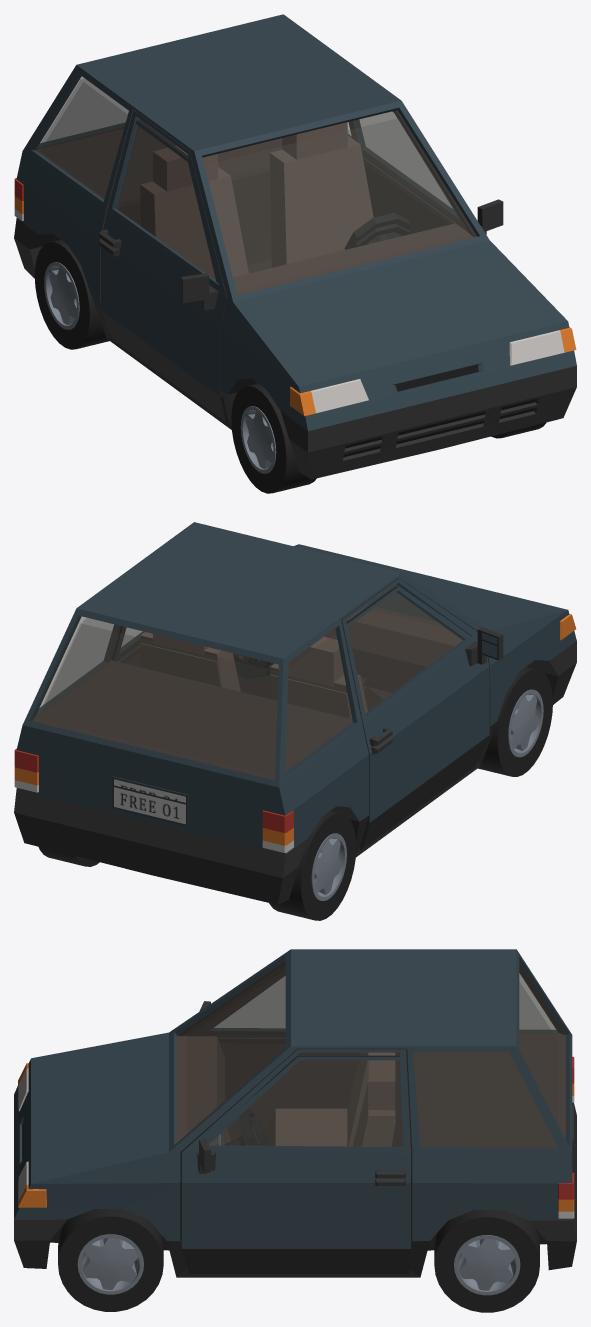
The model's file is car.glb.
3 views of the same model, one above another, from view 1: azimuth 30°, elevation 25°; view 2: azimuth 150°, elevation 25°; view 3: azimuth 270°, elevation 25° (orthographic). The views are drawn at different scales.
Visible parts, largest first — view 1: car body, windows, windows.001, interior, door r.001, door r, win door r.001, win door r.002, wheel fr.001, wheel br.001, door l.001, door l (+1 smaller); view 2: car body, windows, windows.001, door r.001, door r, interior, win door r.001, win door r.002, interior.001, wheel br.001, wheel fr.001, free number.001 (+1 smaller); view 3: car body, windows, windows.001, door l.001, door l, win door l.001, win door l.002, interior, wheel bl.001, wheel fl.001, door r, door r.001 (+1 smaller).
Part boxes in pixels (<box>): car body: <box>14,14,576,479</box>; windows: <box>36,76,476,294</box>; windows.001: <box>38,79,470,291</box>; interior: <box>140,122,473,294</box>; door r.001: <box>99,120,227,423</box>; door r: <box>99,110,227,389</box>; win door r.001: <box>116,119,215,278</box>; win door r.002: <box>118,127,214,278</box>; wheel fr.001: <box>231,383,316,493</box>; wheel br.001: <box>34,239,109,349</box>; door l.001: <box>349,110,503,236</box>; door l: <box>358,110,503,233</box>; car body: <box>14,522,576,904</box>; windows: <box>32,585,397,779</box>; windows.001: <box>37,585,395,775</box>; door r.001: <box>346,586,503,850</box>; door r: <box>341,578,503,813</box>; interior: <box>140,605,462,718</box>; win door r.001: <box>346,584,463,712</box>; win door r.002: <box>348,593,462,712</box>; interior.001: <box>140,634,400,718</box>; wheel br.001: <box>269,810,356,920</box>; wheel fr.001: <box>478,666,552,776</box>; free number.001: <box>112,785,188,826</box>; car body: <box>14,949,576,1277</box>; windows: <box>177,961,565,1147</box>; windows.001: <box>187,969,559,1145</box>; door l.001: <box>180,1055,412,1273</box>; door l: <box>180,1049,412,1241</box>; win door l.001: <box>209,1053,402,1146</box>; win door l.002: <box>209,1061,402,1146</box>; interior: <box>177,1036,395,1146</box>; wheel bl.001: <box>434,1210,539,1312</box>; wheel fl.001: <box>58,1209,163,1311</box>; door r: <box>182,964,403,1146</box>; door r.001: <box>189,968,402,1146</box>.
Size of the model in its own units: 2.18 by 1.71 by 3.46.
Materials: 4 (4 with a texture image).
